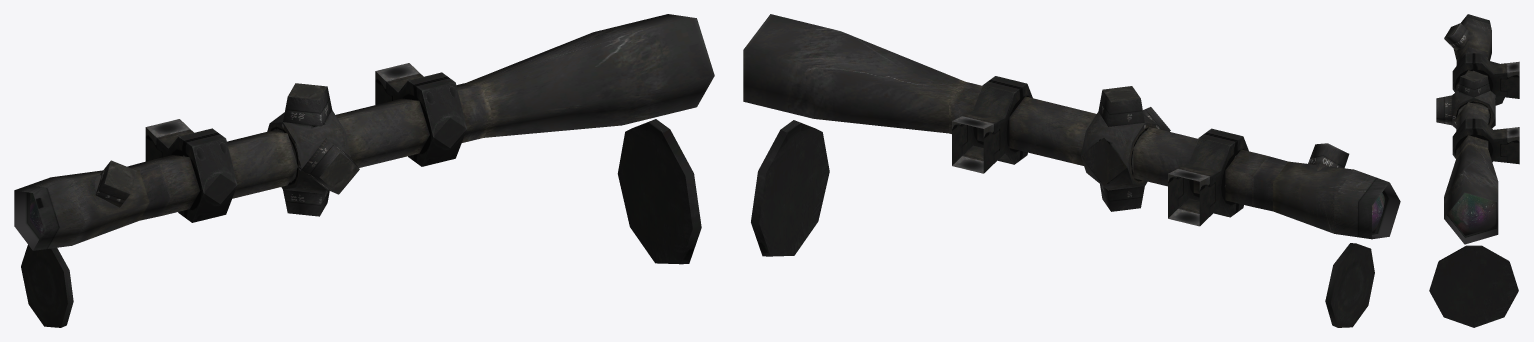
File: t6_wpn_sniper_m82_scope_world_LOD1.obj
The picture shows the model from 3 angles, left to right: view 1: azimuth 30°, elevation 25°; view 2: azimuth 150°, elevation 25°; view 3: azimuth 270°, elevation 25°; orthographic projection. The views are drawn at different scales.
Visible parts, largest first — view 1: mtl_t6_wpn_sniper_m82_scope_camo2, mtl_t6_wpn_sniper_m82_scope; view 2: mtl_t6_wpn_sniper_m82_scope_camo2, mtl_t6_wpn_sniper_m82_scope; view 3: mtl_t6_wpn_sniper_m82_scope, mtl_t6_wpn_sniper_m82_scope_camo2.
Boxes of the visible parts, x1,y1,x2,y2 form: mtl_t6_wpn_sniper_m82_scope_camo2: (15, 14, 714, 250); mtl_t6_wpn_sniper_m82_scope: (14, 72, 701, 327); mtl_t6_wpn_sniper_m82_scope_camo2: (743, 14, 1389, 239); mtl_t6_wpn_sniper_m82_scope: (751, 76, 1400, 327); mtl_t6_wpn_sniper_m82_scope: (1429, 23, 1518, 327); mtl_t6_wpn_sniper_m82_scope_camo2: (1444, 14, 1519, 217).
Bounding box in the file's own units: 34.13 × 12.75 × 6.96.
2 materials, 2 textured.
